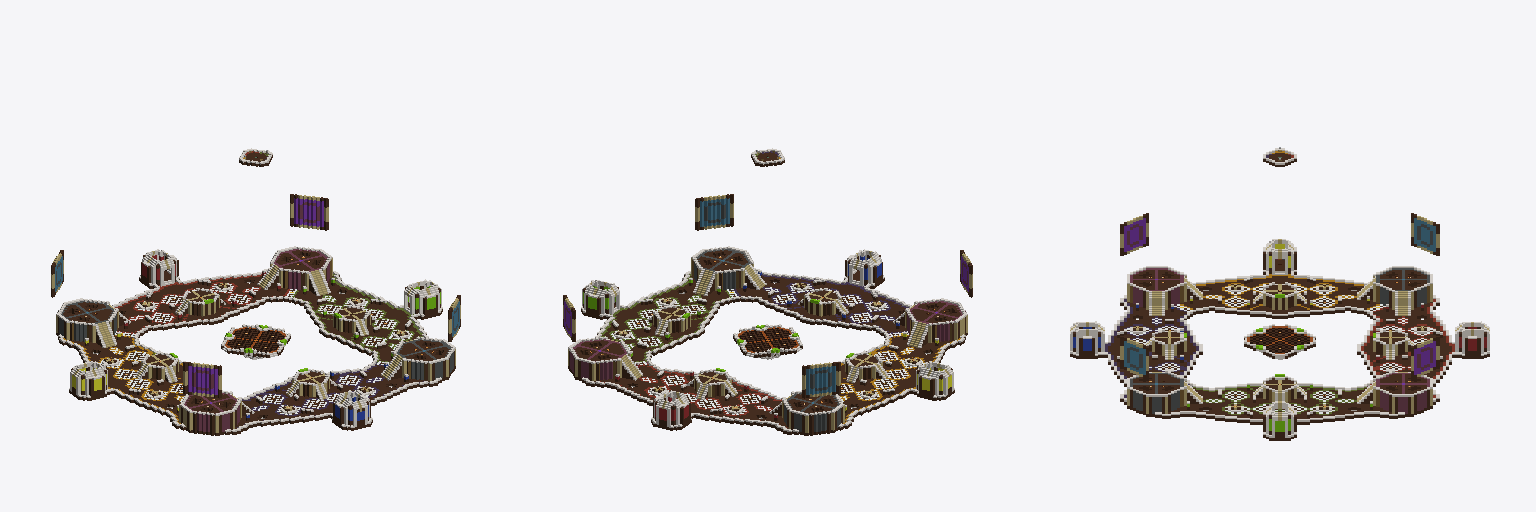
3 renders of one model, left to right at view 1: azimuth 30°, elevation 25°; view 2: azimuth 150°, elevation 25°; view 3: azimuth 270°, elevation 25°, orthographic.
Bounding box in the file's own units: 133 × 72 × 133.
36 materials, 6 textured.